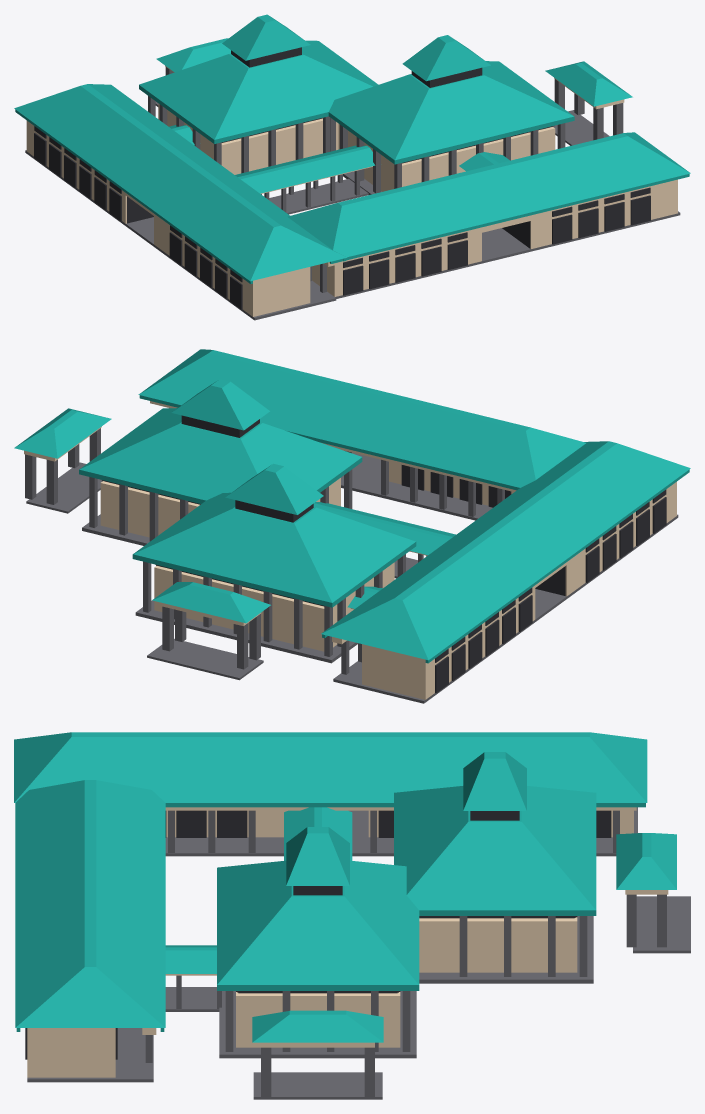
Rendered from palengke-market-complex.glb.
The picture shows the model from 3 angles, top to bottom: view 1: azimuth 30°, elevation 25°; view 2: azimuth 150°, elevation 25°; view 3: azimuth 270°, elevation 25°; orthographic projection. The views are drawn at different scales.
Visible parts, largest first — view 1: arcade_w_roof, arcade_s_roof, pavilion_b_roof_lower, pavilion_a_roof_lower, shop_door_s_out (×9), arcade_w_shopblock_s, pavilion_a_wall, pavilion_b_wall, breezeway_court_roof, arcade_s_shopblock_e, arcade_s_shopblock_w, pavilion_a_roof_upper (+15 smaller); view 2: arcade_w_roof, arcade_s_roof, pavilion_a_roof_lower, pavilion_b_roof_lower, pavilion_a_wall, arcade_w_shopblock_n, pavilion_b_wall, pavilion_b_roof_upper, pavilion_a_roof_upper, portal_north_canopy, arcade_s_plinth, portal_east_canopy (+15 smaller); view 3: arcade_w_roof, arcade_s_roof, pavilion_a_roof_lower, pavilion_b_roof_lower, pavilion_a_wall, arcade_s_shopblock_e, pavilion_b_wall, portal_east_canopy, arcade_w_plinth, portal_north_canopy, pavilion_b_roof_upper, pavilion_a_roof_upper (+17 smaller).
Part boxes in pixels (box(x1,y1,x2,y2)): arcade_w_roof: box(14, 84, 346, 281); arcade_s_roof: box(287, 132, 690, 257); pavilion_b_roof_lower: box(329, 61, 573, 160); pavilion_a_roof_lower: box(139, 40, 378, 139); shop_door_s_out (×9): box(343, 195, 650, 295); arcade_w_shopblock_s: box(154, 214, 310, 316); pavilion_a_wall: box(158, 103, 338, 174); pavilion_b_wall: box(338, 124, 555, 191); breezeway_court_roof: box(235, 145, 375, 193); arcade_s_shopblock_e: box(530, 179, 677, 248); arcade_s_shopblock_w: box(312, 227, 481, 296); pavilion_a_roof_upper: box(222, 14, 310, 60); arcade_w_roof: box(321, 441, 690, 660); arcade_s_roof: box(138, 349, 585, 487); pavilion_a_roof_lower: box(133, 492, 415, 602); pavilion_b_roof_lower: box(79, 408, 361, 500); pavilion_a_wall: box(154, 562, 394, 651); arcade_w_shopblock_n: box(362, 585, 535, 699); pavilion_b_wall: box(100, 478, 340, 537); pavilion_b_roof_upper: box(171, 379, 269, 430); pavilion_a_roof_upper: box(225, 463, 323, 514); portal_north_canopy: box(152, 582, 270, 623); arcade_s_plinth: box(341, 452, 492, 520); portal_east_canopy: box(14, 408, 111, 458); arcade_w_roof: box(14, 732, 647, 802); arcade_s_roof: box(15, 780, 165, 1027); pavilion_a_roof_lower: box(394, 786, 596, 910); pavilion_b_roof_lower: box(217, 860, 419, 984); pavilion_a_wall: box(419, 917, 577, 972); arcade_s_shopblock_e: box(27, 1028, 115, 1077); pavilion_b_wall: box(236, 992, 400, 1047); portal_east_canopy: box(252, 1010, 383, 1042); arcade_w_plinth: box(165, 807, 637, 856); portal_north_canopy: box(616, 833, 676, 889); pavilion_b_roof_upper: box(286, 827, 349, 885); pavilion_a_roof_upper: box(463, 752, 526, 810).
Bounding box in the file's own units: 57.75 × 14.89 × 53.55.
